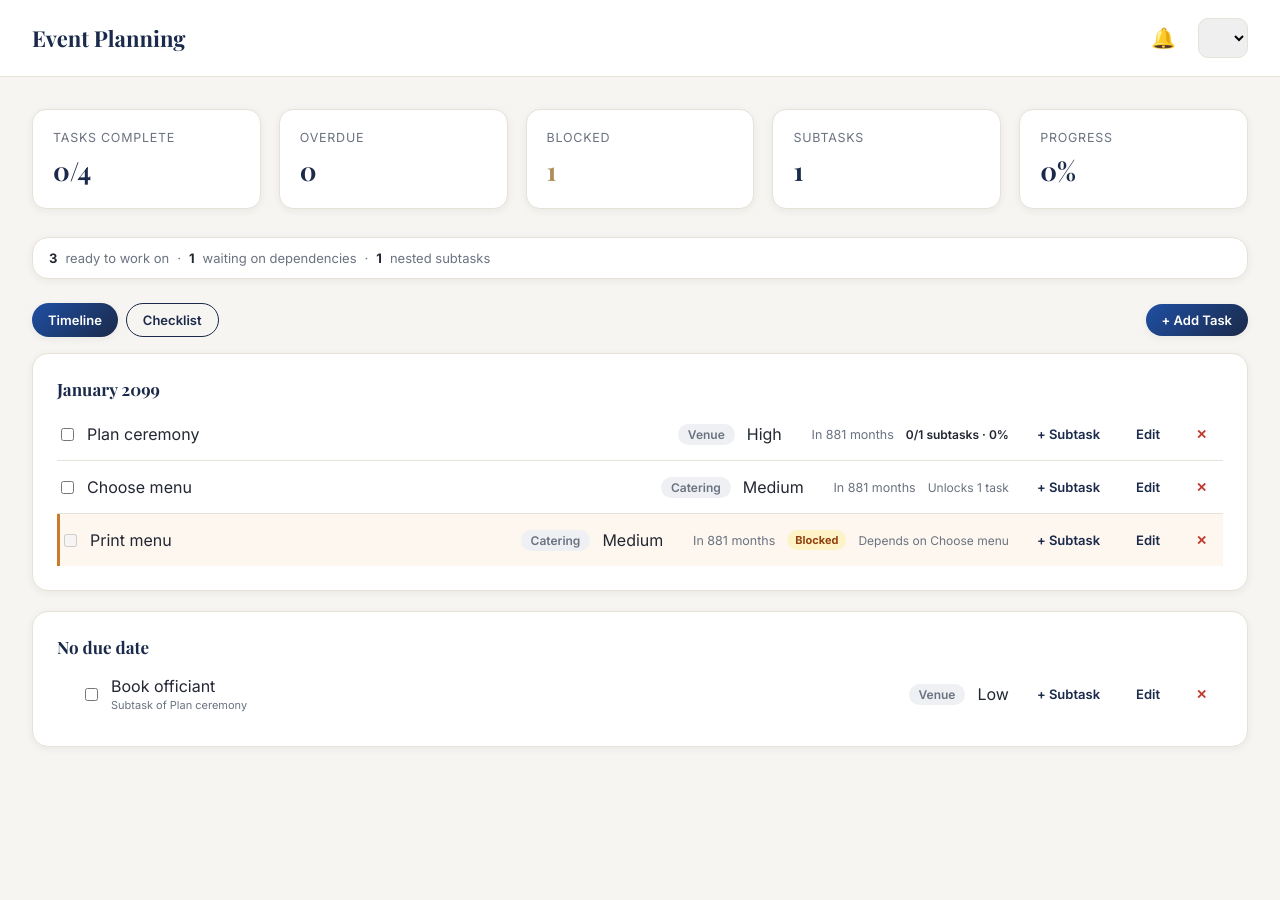
Test: Planning subtask creation › opens the add form with parent and category inherited
This screenshot has width=1280, height=900.
Step 1. Click the button "+ Subtask" in the row of "High" → (1068, 434), box [1021,418,1116,450]
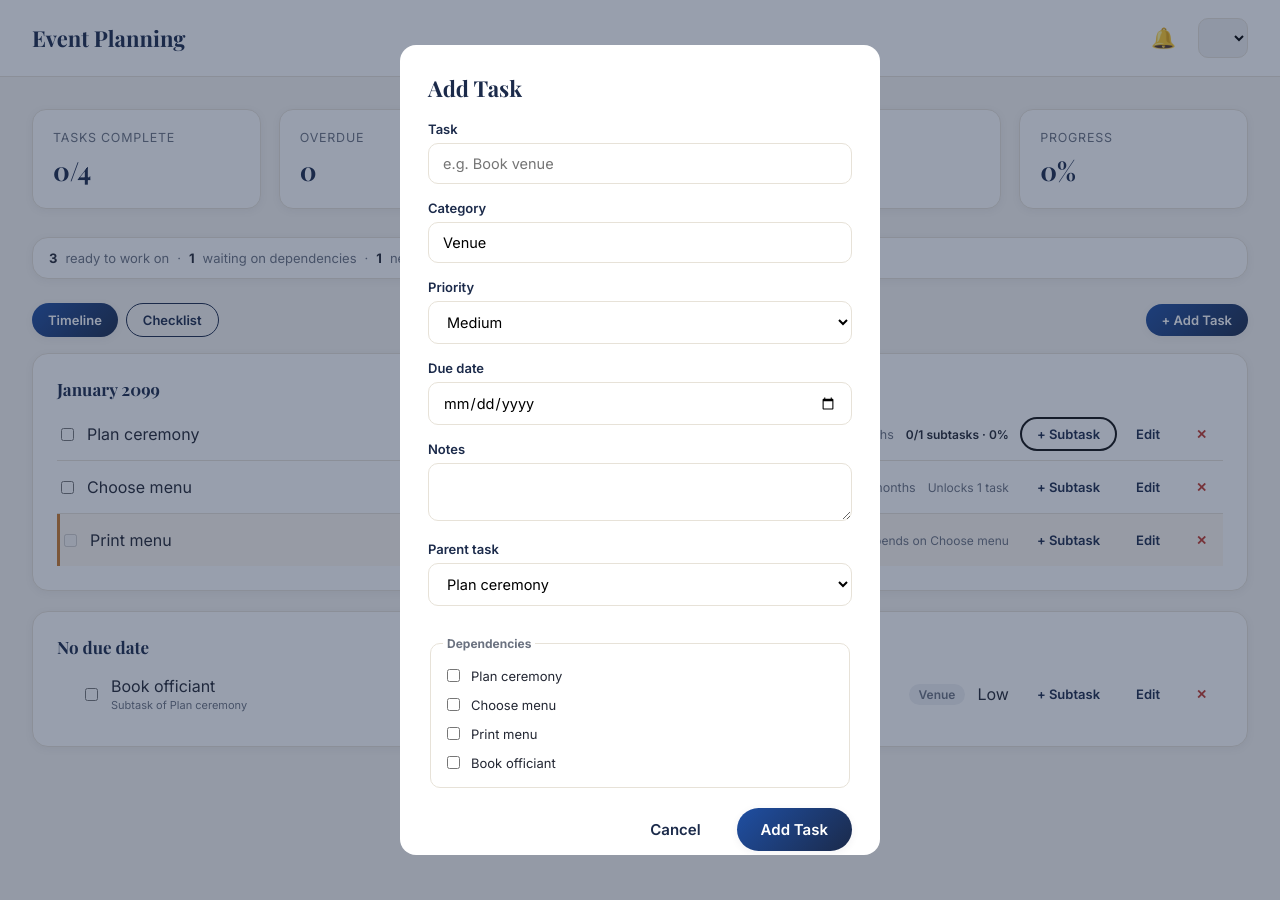
Now the dropdown labelled "Parent task" shows "Plan ceremony", box [428,563,852,606]
Now the field labelled "Category" holds "Venue", box [428,222,852,263]
